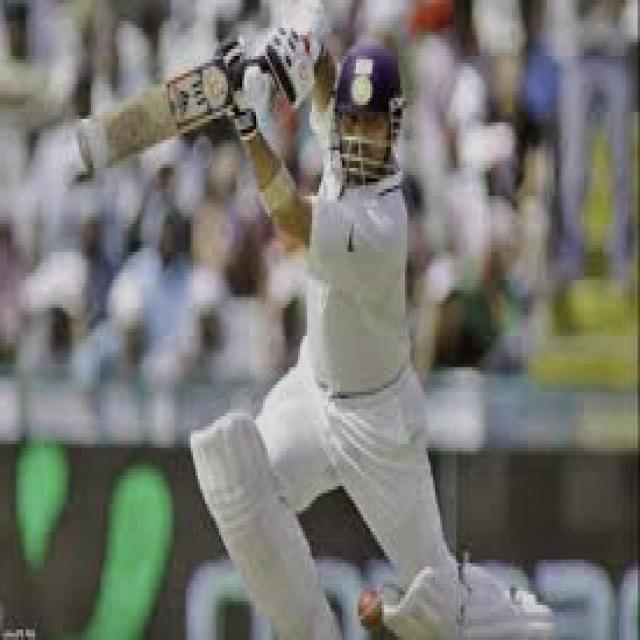bat: (69, 59, 237, 181)
toe: (75, 121, 95, 173)
